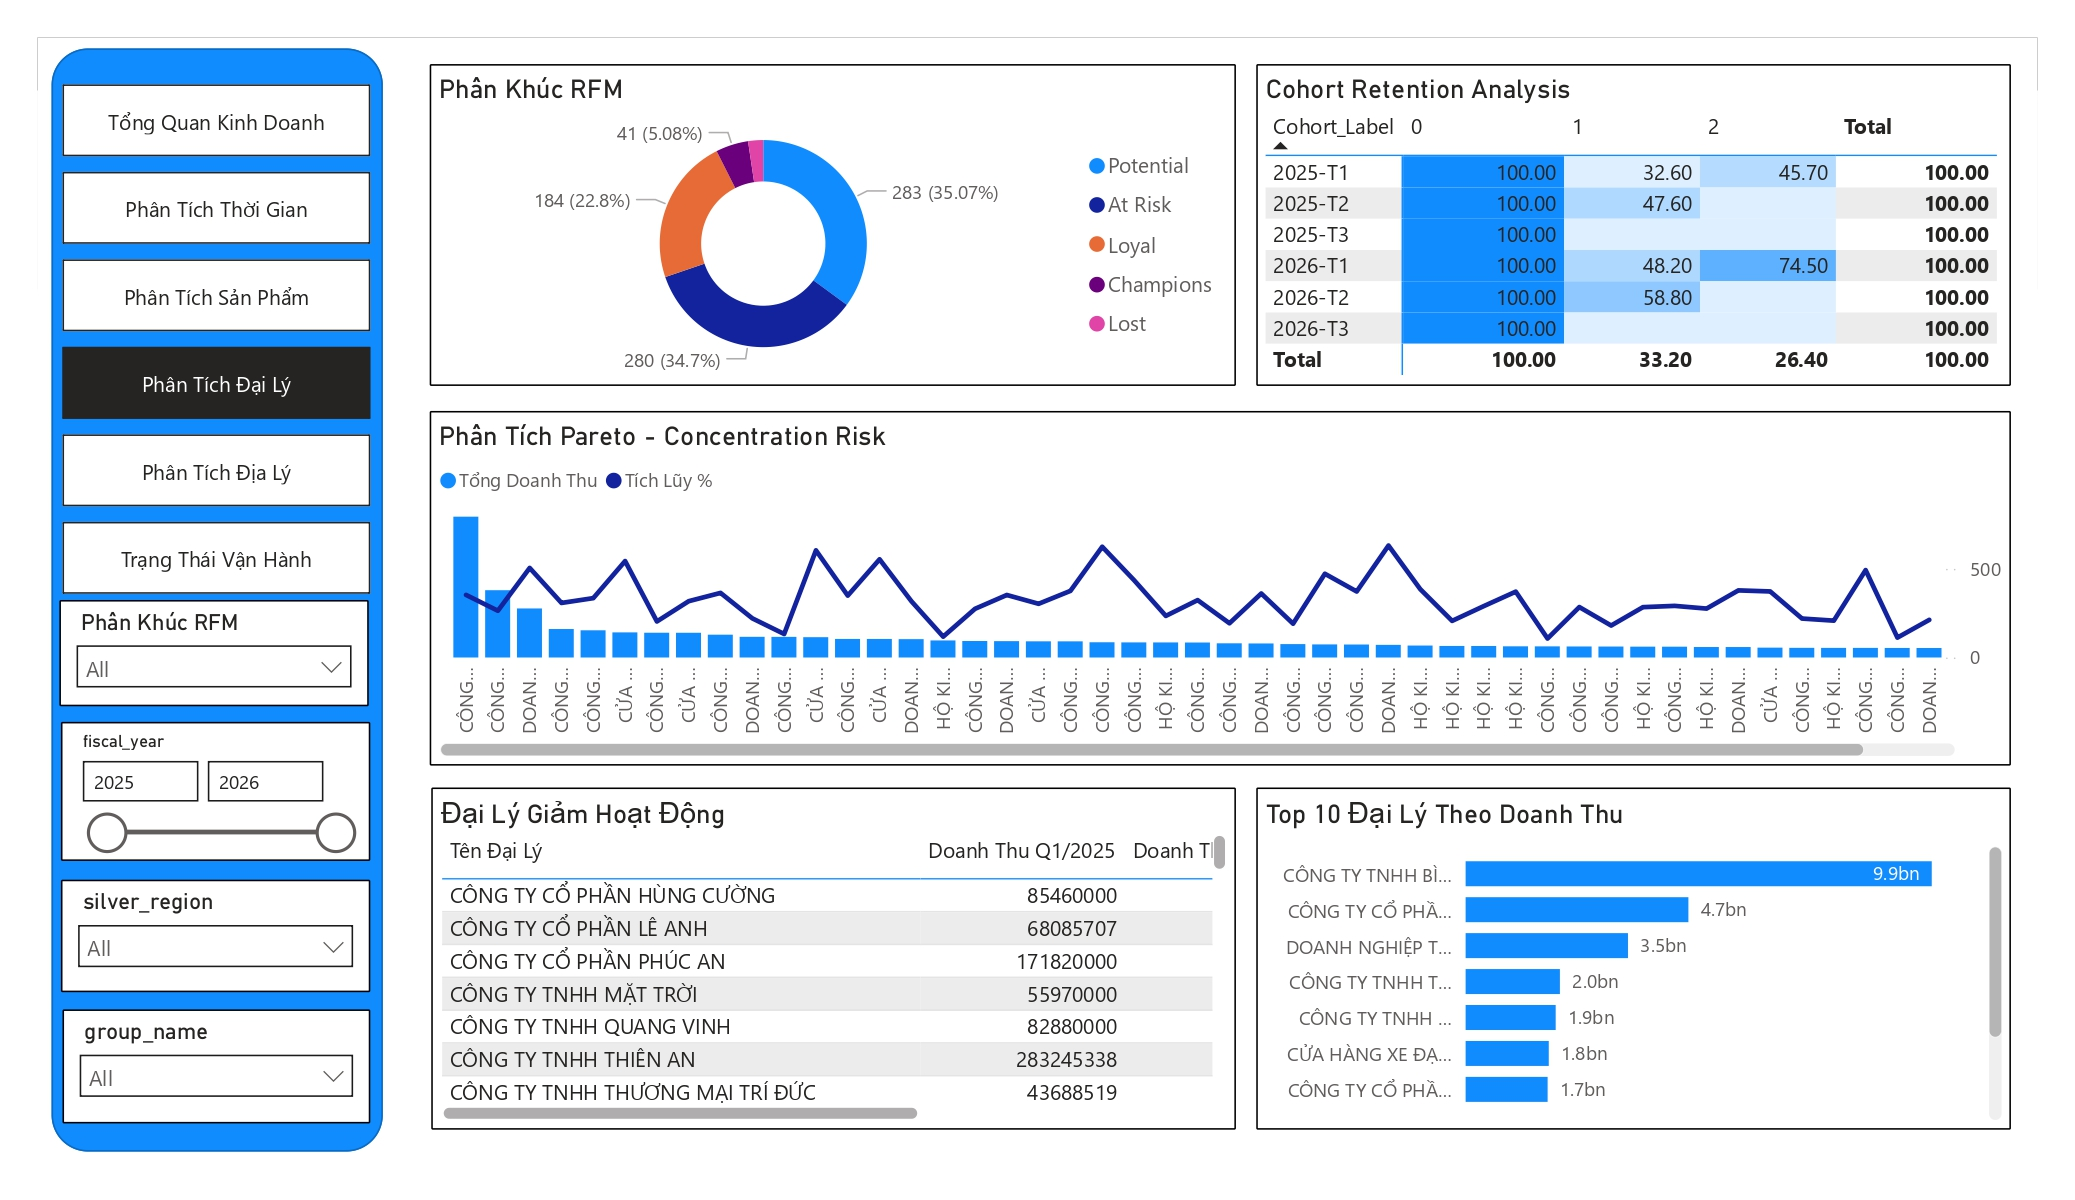

The page's visual inventory and layout, read from the dashboard file:
{"tool":"powerbi","page":{"name":"Phân Tích Đại Lý","canvas":[1280,720],"ordinal":3},"visuals":[{"type":"donutChart","title":"Phân Khúc RFM","fields":{"Y":["RFM_Table.RFM_Customer_Count"],"Category":["RFM_Table.RFM_Segment"]},"box":[251.4,17.1,515.7,205.7],"z":0},{"type":"lineClusteredColumnComboChart","title":"Phân Tích Pareto - Concentration Risk","fields":{"Category":["Customer_Revenue_Summary.customer_name"],"Y":["Sum(Customer_Revenue_Summary.Total_Rev)"],"Y2":["Sum(Customer_Revenue_Summary.Cum_Rev_Pct)"]},"box":[251.4,238.6,1011.4,227.1],"z":1000},{"type":"tableEx","title":"Đại Lý Giảm Hoạt Động","fields":{"Values":["gold_fact_sales.customer_name","_measures.Q1_2025_Revenue","_measures.Q1_2026_Revenue","_measures.Activity_Change_Pct","_measures.Status_Icon"]},"box":[252.2,480,514.4,218.9],"z":2000},{"type":"clusteredBarChart","title":"Top 10 Đại Lý Theo Doanh Thu","fields":{"Category":["gold_fact_sales.customer_name"],"Y":["_measures.Total Revenue"]},"box":[780,480,482.5,218.8],"z":3000},{"type":"shape","box":[8.6,7.1,212.9,705.7],"z":4000},{"type":"slicer","fields":{"Values":["gold_fact_sales.silver_region"]},"box":[15.4,538.6,197.1,72.9],"z":5000},{"type":"slicer","fields":{"Values":["gold_fact_sales.group_name"]},"box":[15.8,622,197.1,72.9],"z":6000},{"type":"slicer","fields":{"Values":["gold_fact_sales.fiscal_year"]},"box":[15,438,198,89],"z":7000},{"type":"slicer","fields":{"Values":["RFM_Table.RFM_Segment"]},"box":[14,360,198,68],"z":8000},{"type":"pivotTable","title":"Cohort Retention Analysis","fields":{"Rows":["Cohort_Base.Cohort_Label"],"Values":["Cohort_Base.Cohort_Retention_Pct"],"Columns":["Cohort_Base.Period_Number"]},"box":[780,17.1,482.9,205.7],"z":9000},{"type":"pageNavigator","box":[15.8,30,196.7,330],"z":10000}]}

Visuals, with their boxes on the page's 1280x720 design canvas (x1, y1, x2, y2). These are canvas units, not pixel positions in the 2075x1200 screenshot, which may show the page scaled, cropped or inside an application window:
"Phân Khúc RFM" donutChart: bbox=[251, 17, 767, 223]
"Phân Tích Pareto - Concentration Risk" lineClusteredColumnComboChart: bbox=[251, 239, 1263, 466]
"Đại Lý Giảm Hoạt Động" tableEx: bbox=[252, 480, 767, 699]
"Top 10 Đại Lý Theo Doanh Thu" clusteredBarChart: bbox=[780, 480, 1262, 699]
shape: bbox=[9, 7, 222, 713]
slicer - gold_fact_sales.silver_region: bbox=[15, 539, 212, 612]
slicer - gold_fact_sales.group_name: bbox=[16, 622, 213, 695]
slicer - gold_fact_sales.fiscal_year: bbox=[15, 438, 213, 527]
slicer - RFM_Table.RFM_Segment: bbox=[14, 360, 212, 428]
"Cohort Retention Analysis" pivotTable: bbox=[780, 17, 1263, 223]
pageNavigator: bbox=[16, 30, 212, 360]
